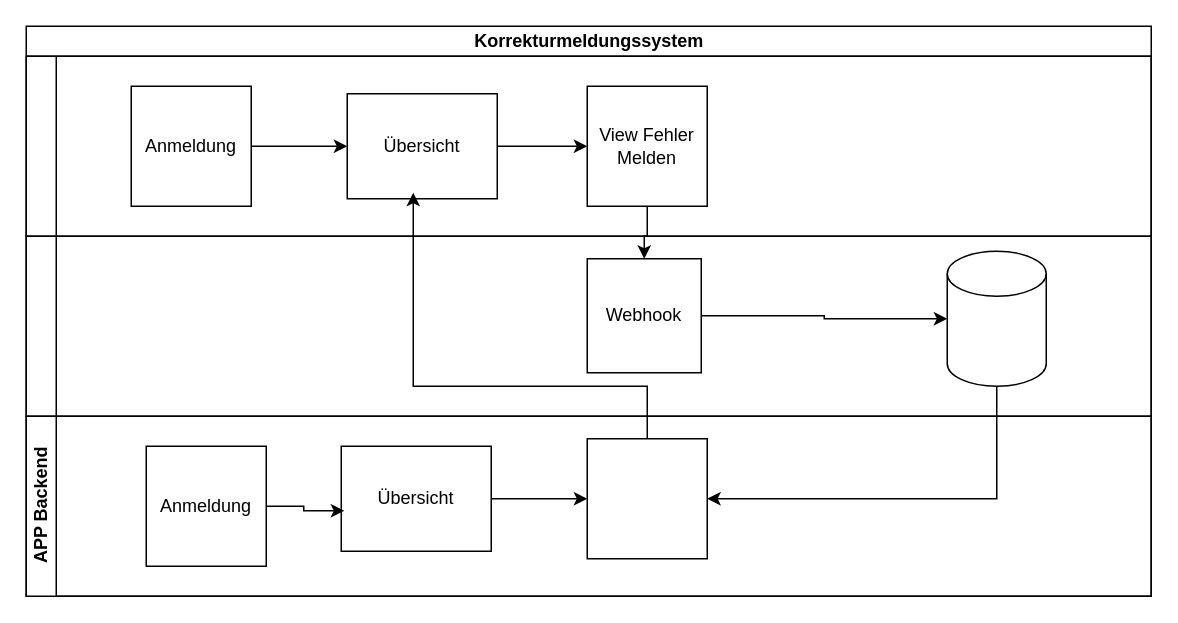
Image size: 1178x623. Some labels were removed from this diagram. The box of each missing label's shape, as (x1, y1, x2, y2) in pixels:
APP Form: (25, 55, 1151, 236)
APP Webhook: (25, 235, 1151, 416)
backend: (586, 437, 707, 559)
Datenbank: (946, 250, 1046, 386)
